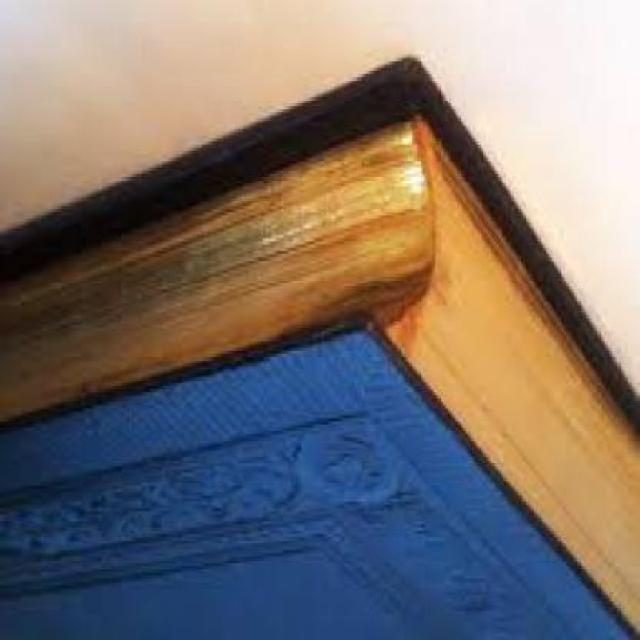PAPER: (0, 60, 638, 640)
